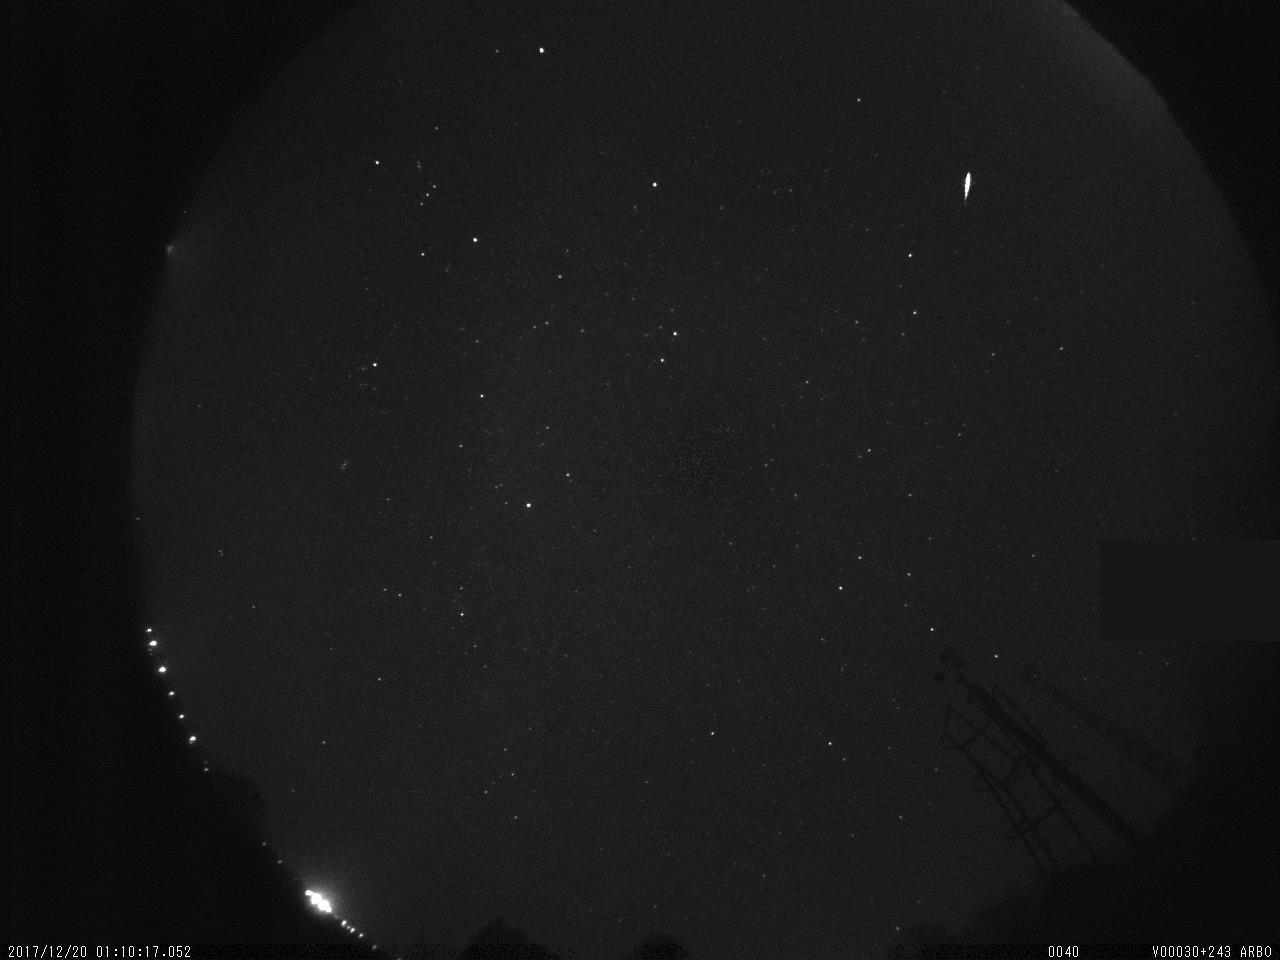Meteor: (959, 167, 974, 202)
